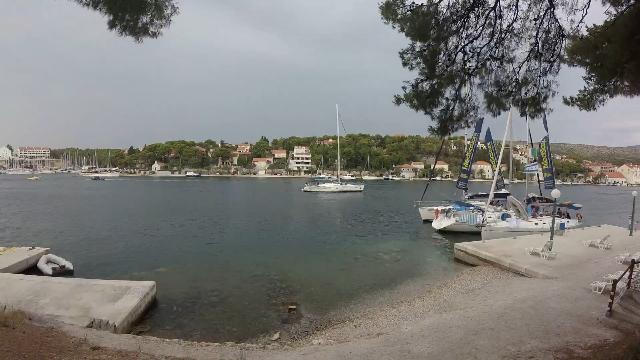Sailboat: (294, 171, 372, 195)
speedboat: (85, 174, 114, 184), (24, 172, 46, 182)
